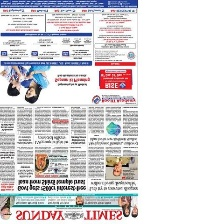news_paper: (0, 0, 138, 224)
